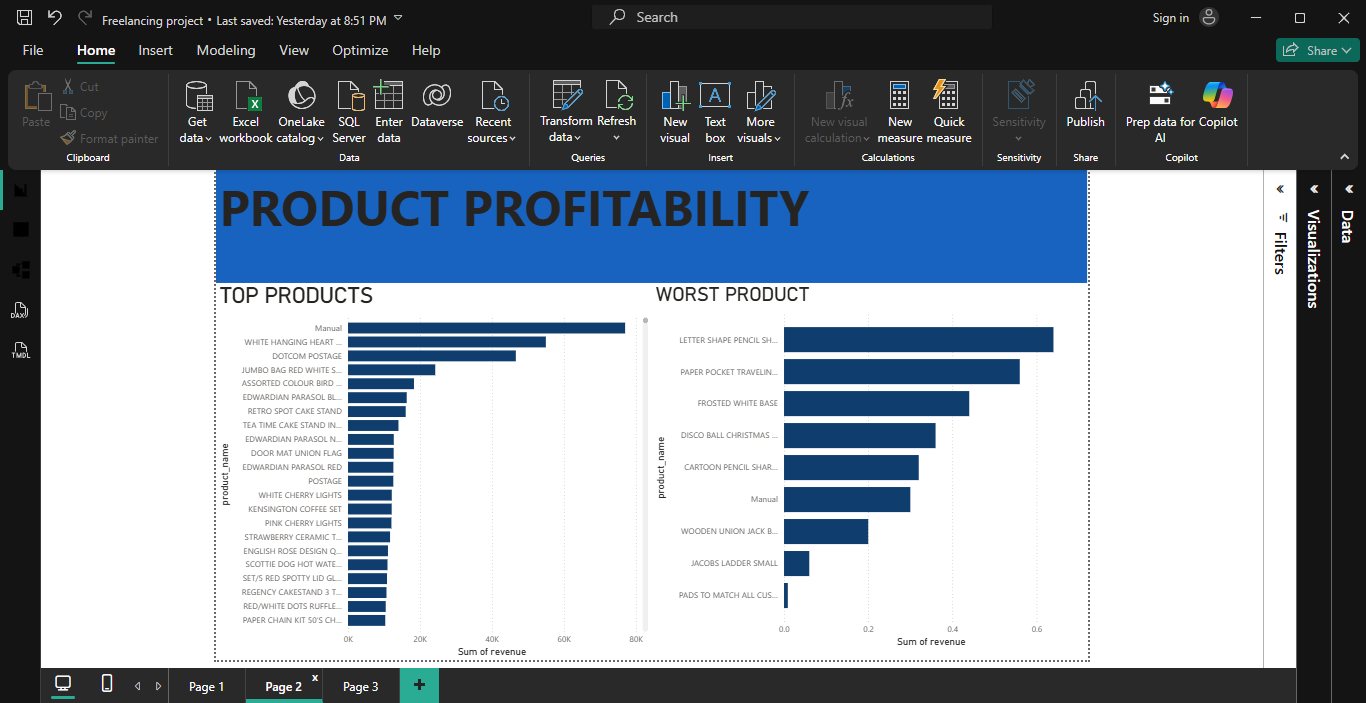

Layout of this report page (visuals, bound fields, positions):
{"tool":"powerbi","page":{"name":"Page 2","canvas":[1280,720],"ordinal":1},"visuals":[{"type":"textbox","box":[0,0,1280,166.3],"z":0},{"type":"clusteredBarChart","title":"TOP PRODUCTS","fields":{"Category":["Sheet1.product_name"],"Y":["Sum(Sheet1.revenue)"]},"box":[0,166.3,640,554.3],"z":1000},{"type":"clusteredBarChart","title":"WORST PRODUCT","fields":{"Category":["Sheet1.product_name"],"Y":["Sum(Sheet1.revenue)"]},"box":[640,166.3,640,539.2],"z":2000}]}

Visuals, with their boxes on the page's 1280x720 design canvas (x1, y1, x2, y2). These are canvas units, not pixel positions in the 1366x703 screenshot, which may show the page scaled, cropped or inside an application window:
textbox: 0, 0, 1280, 166
"TOP PRODUCTS" clusteredBarChart: 0, 166, 640, 721
"WORST PRODUCT" clusteredBarChart: 640, 166, 1280, 706
